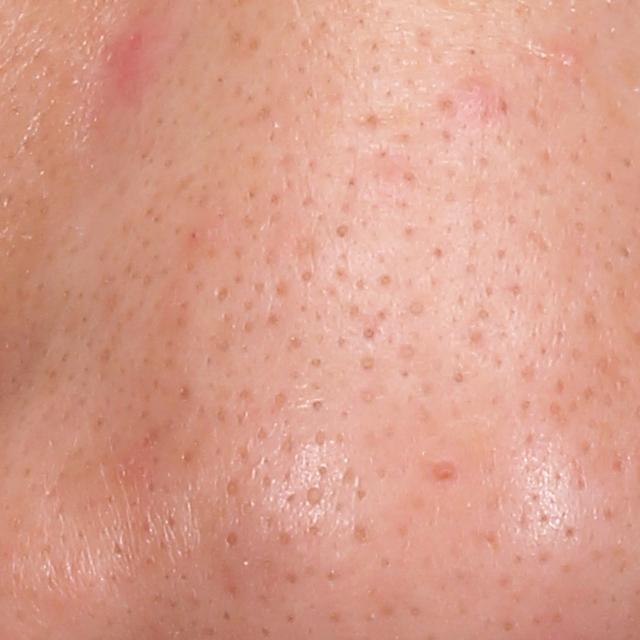comedo: (219, 524, 245, 551)
